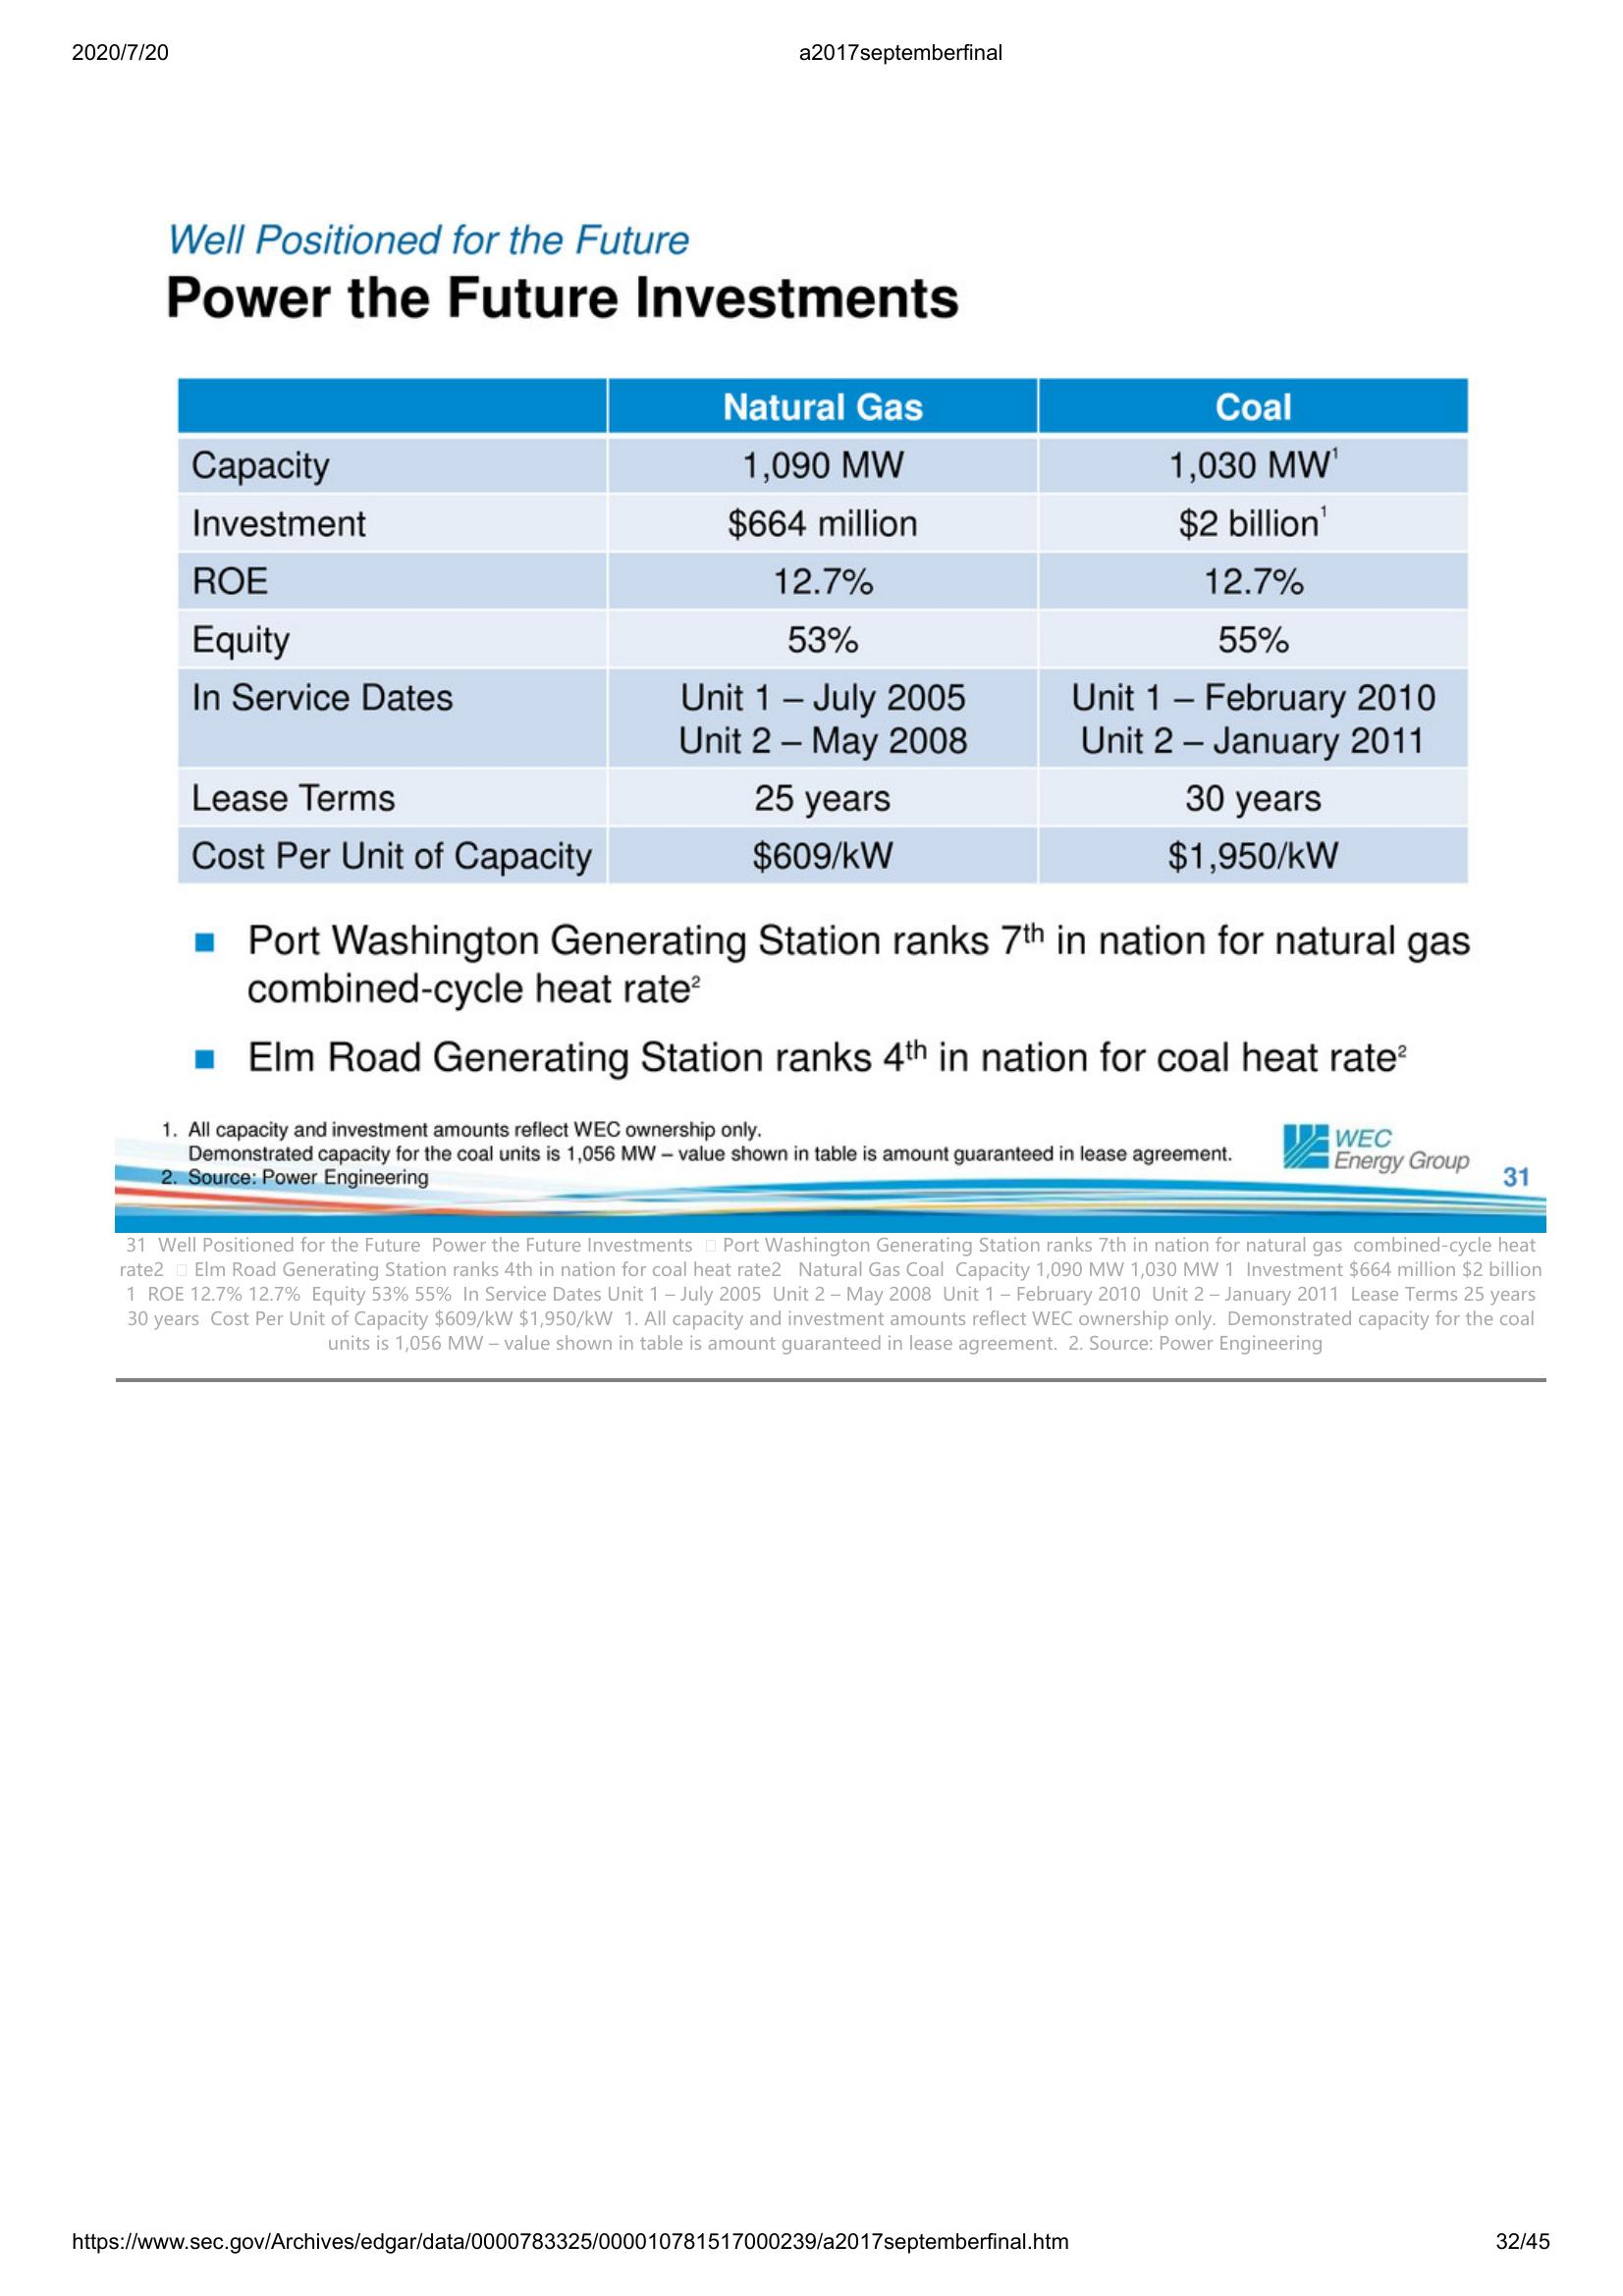table: (172, 370, 1475, 888)
